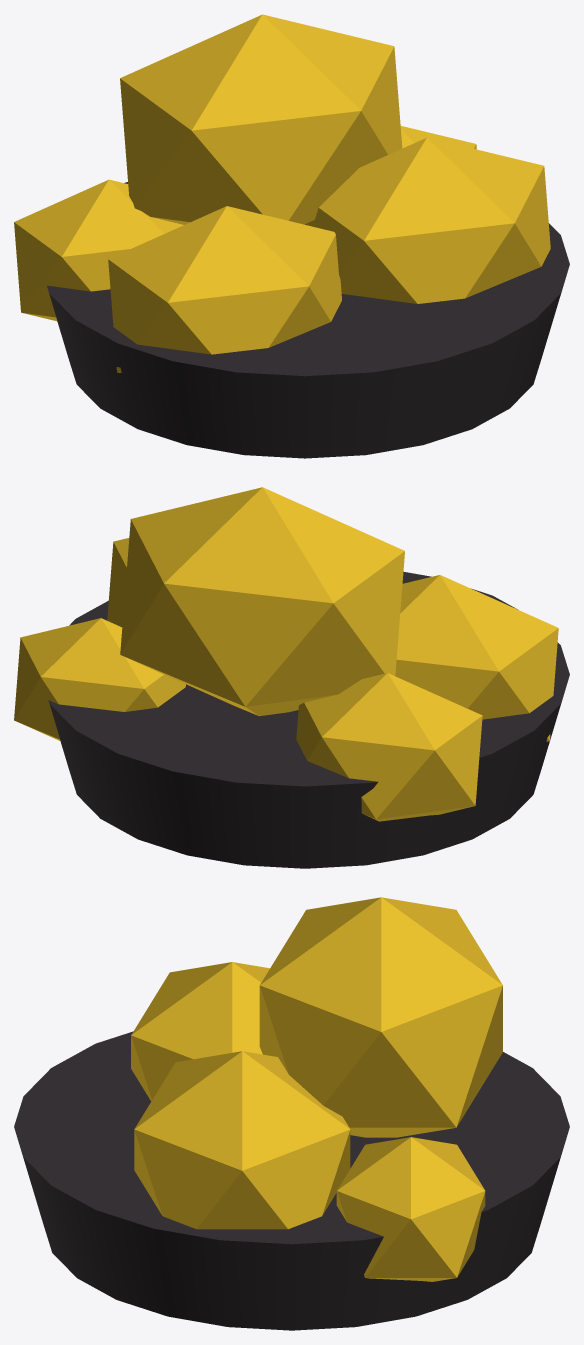
Rendered from item-sulfur-refined.glb.
The picture shows the model from 3 angles, top to bottom: view 1: azimuth 30°, elevation 25°; view 2: azimuth 150°, elevation 25°; view 3: azimuth 270°, elevation 25°; orthographic projection. The views are drawn at different scales.
Visible parts, largest first — view 1: sulfur-refined surfaces; view 2: sulfur-refined surfaces; view 3: sulfur-refined surfaces.
Part boxes in pixels (left/top/right/bottom): sulfur-refined surfaces: left=14, top=14, right=569, bottom=458; sulfur-refined surfaces: left=14, top=487, right=569, bottom=868; sulfur-refined surfaces: left=14, top=897, right=569, bottom=1330.
Bounding box in the file's own units: 0.56 × 0.365 × 0.56.
